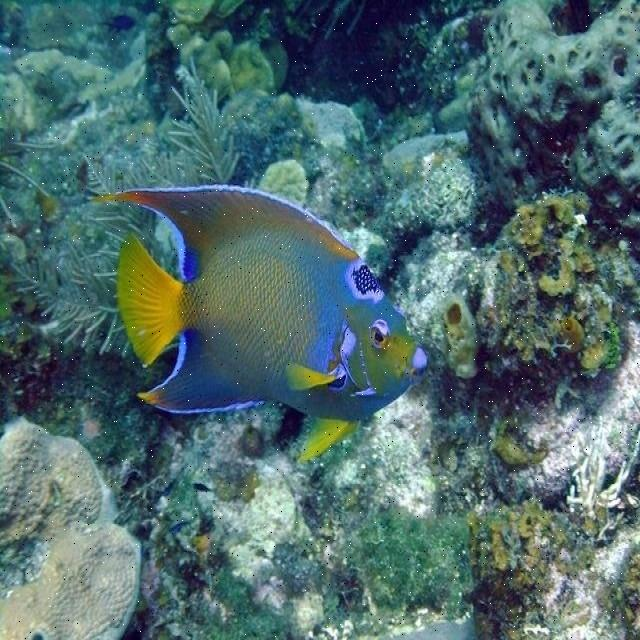fish: (86, 186, 429, 466)
reefs: (0, 415, 144, 639)
